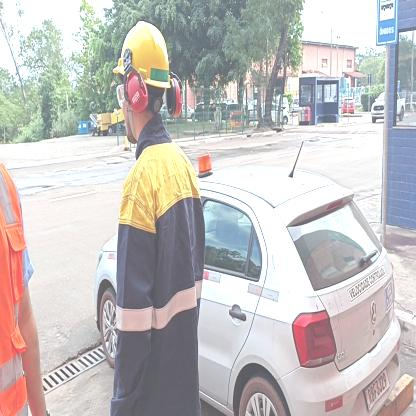C_eletrica: (118, 150, 204, 416)
Capacete: (111, 18, 176, 78)
